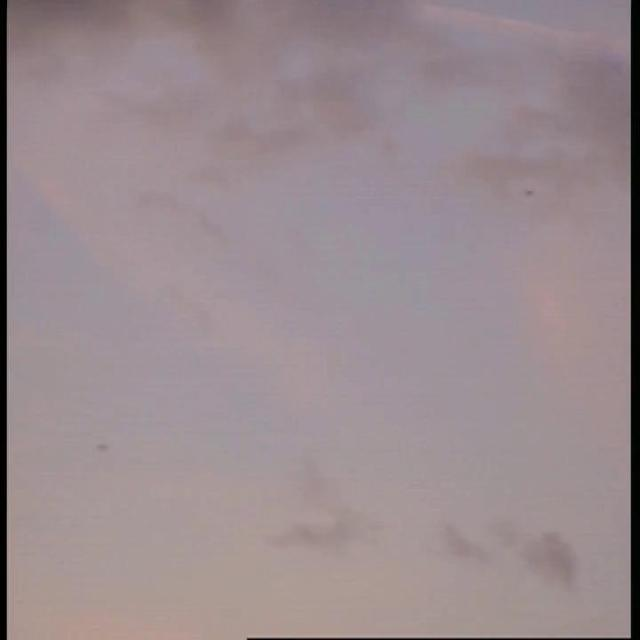drone: (92, 436, 111, 454), (520, 184, 538, 202)
